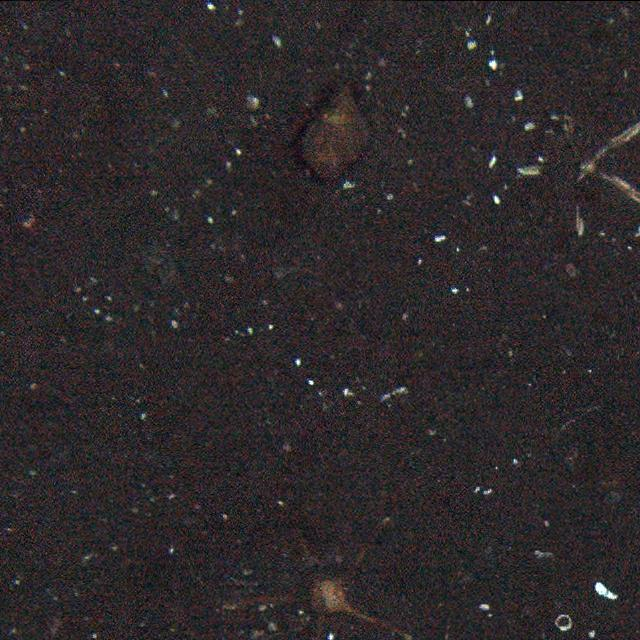whelk: (295, 86, 377, 186)
